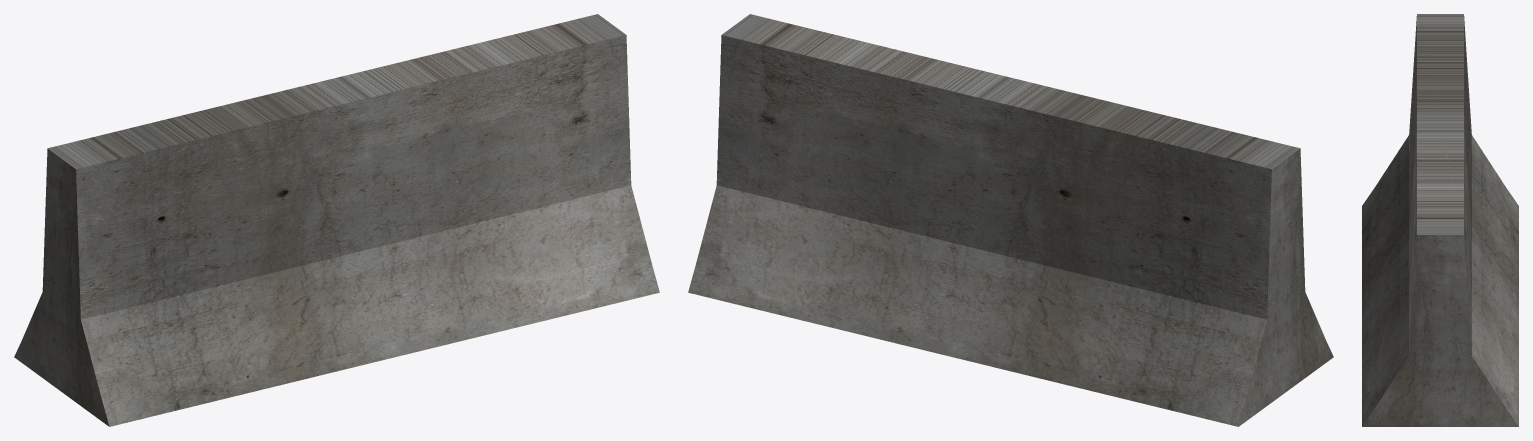
The model's file is S1U_Jersey_2m.fbx.
The picture shows the model from 3 angles, left to right: view 1: azimuth 30°, elevation 25°; view 2: azimuth 150°, elevation 25°; view 3: azimuth 270°, elevation 25°; orthographic projection. The views are drawn at different scales.
Visible parts, largest first — view 1: S1U_Jersey_2m; view 2: S1U_Jersey_2m; view 3: S1U_Jersey_2m.
Part boxes in pixels (x1=…): S1U_Jersey_2m: x1=14, y1=14, x2=659, y2=426; S1U_Jersey_2m: x1=688, y1=14, x2=1333, y2=426; S1U_Jersey_2m: x1=1362, y1=14, x2=1518, y2=426.
Bounding box in the file's own units: 2 × 0.81 × 0.6.
